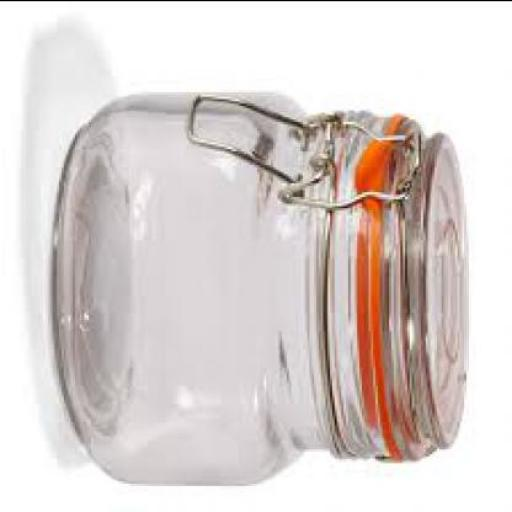glass: (55, 95, 468, 487)
